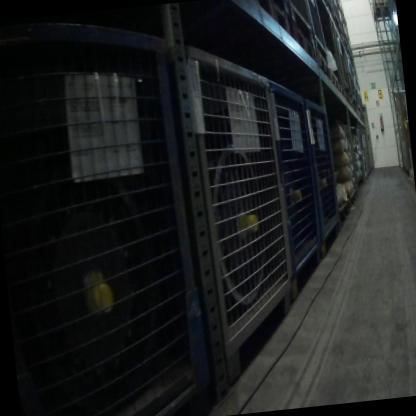pallet: (251, 0, 299, 40), (292, 17, 316, 62), (315, 47, 332, 84), (370, 0, 394, 25), (329, 65, 343, 98), (344, 89, 355, 113), (319, 0, 334, 17), (354, 101, 366, 122)
stillage: (0, 9, 209, 416), (169, 33, 298, 351), (262, 64, 329, 302), (301, 91, 343, 259), (301, 0, 329, 59), (329, 22, 349, 91), (289, 0, 313, 37), (347, 58, 360, 107), (344, 47, 354, 98), (352, 67, 363, 112), (359, 132, 369, 178), (267, 0, 290, 15)
